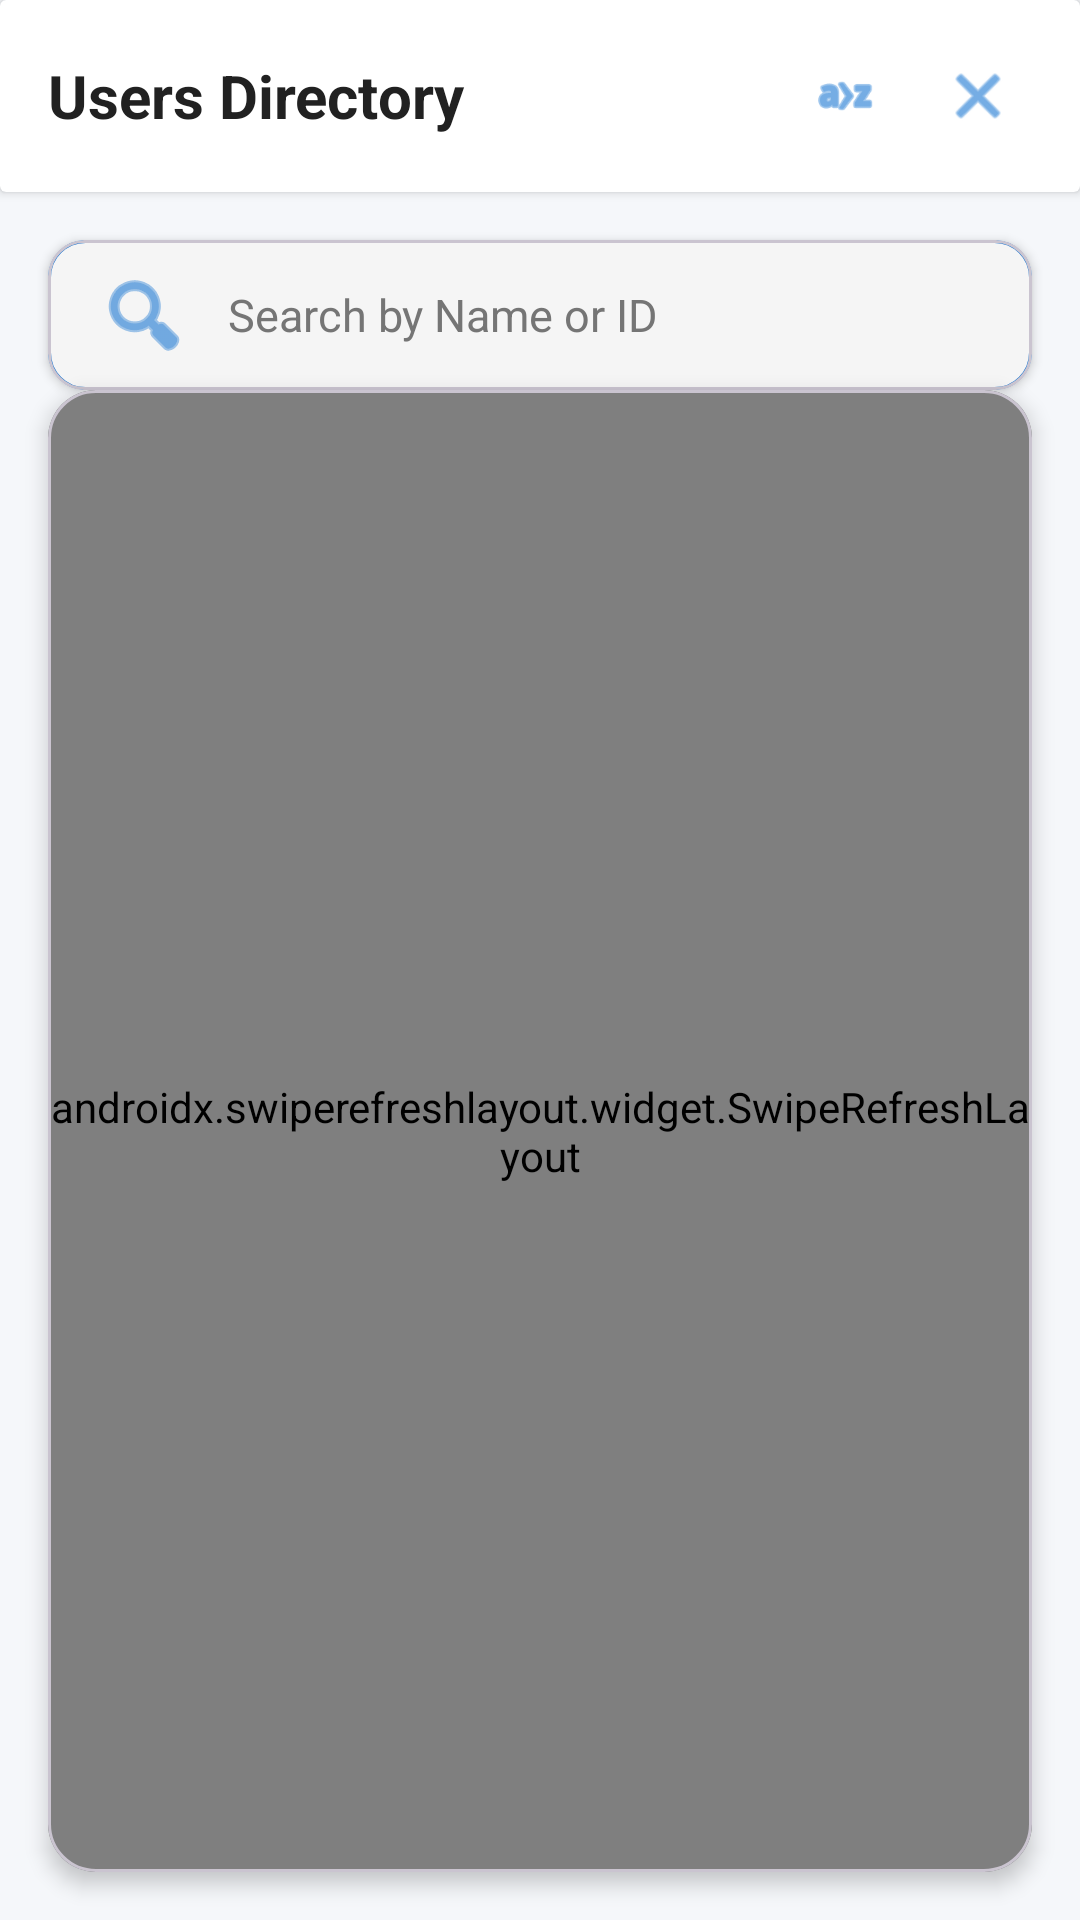

Icons on this 1080w x 1920h Android screen, each with its box as Rect(x1, y1, x2, y2):
close clear cancel: Rect(955, 73, 1001, 119)
sort alphabetically: Rect(818, 82, 872, 110)
